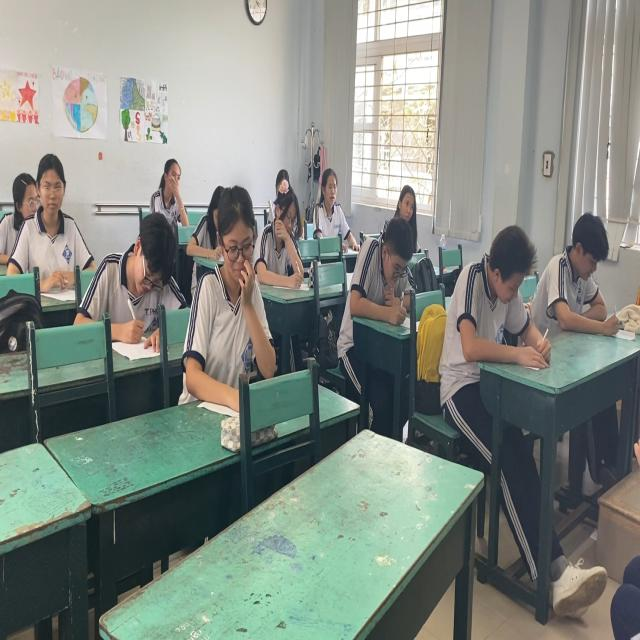not_cheating: (180, 186, 272, 404), (444, 210, 538, 372), (0, 148, 89, 296), (103, 213, 182, 348), (550, 213, 616, 341), (350, 217, 416, 338), (248, 165, 307, 296), (305, 162, 349, 251), (151, 151, 190, 227), (398, 182, 421, 227)
